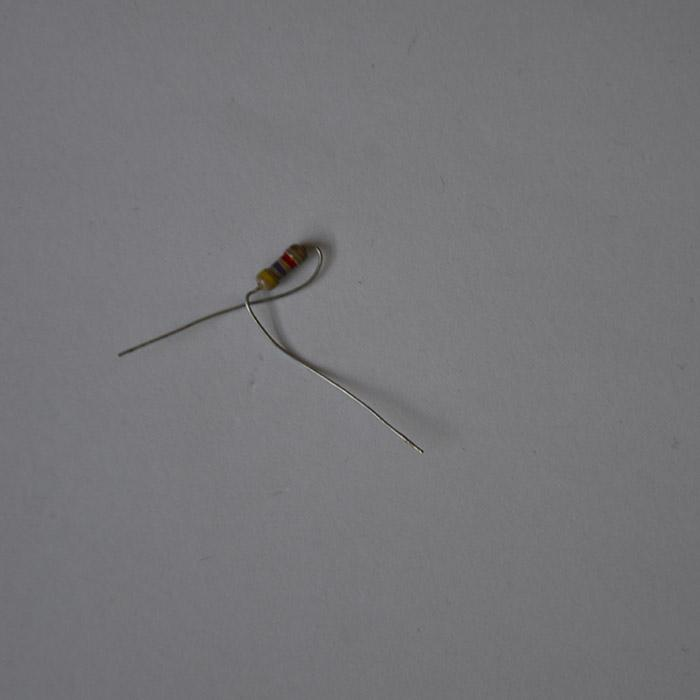resistor: (254, 243, 309, 294)
